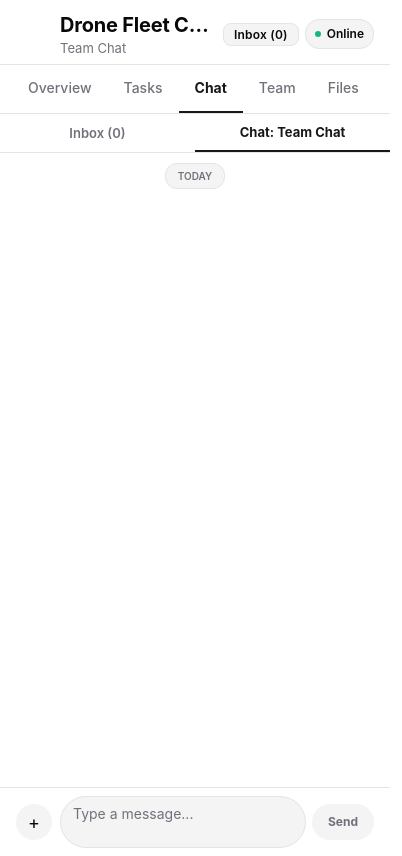
Test case: Phase 4 — Team Chat › switches to direct message with a teammate and sends DM
Note: In mobile view (default jest dimensions), press Switch Chat button to open modal
Click the button with aria-label "Switch Chat" at (261, 34), box [223, 22, 299, 46]
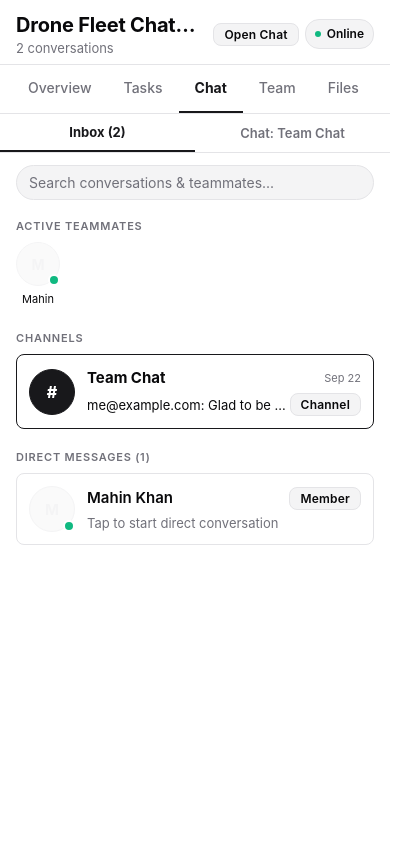
Result: the text "Mahin Khan" is shown
Note: Click on Mahin Khan in the DM list
Click the text "Mahin Khan" at (130, 498), box [87, 487, 173, 509]
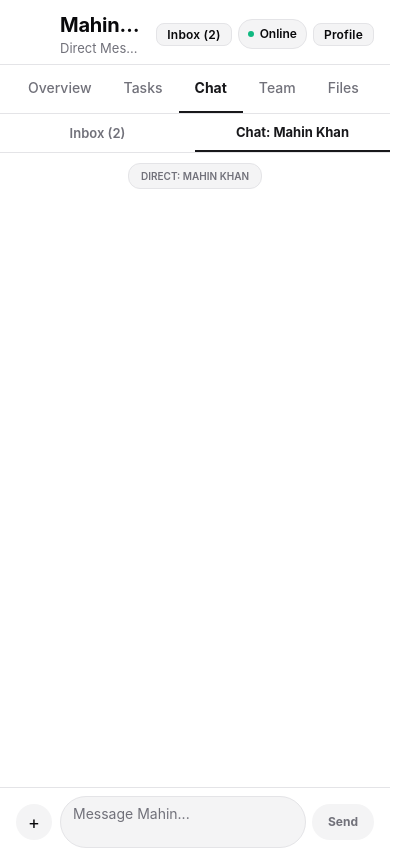
Result: the text "Direct Message" is shown at [60, 40, 142, 56]
Type "Private direct message to Mahin" into the text box with placeholder "Message Mahin..." at (183, 822), box [60, 796, 306, 848]
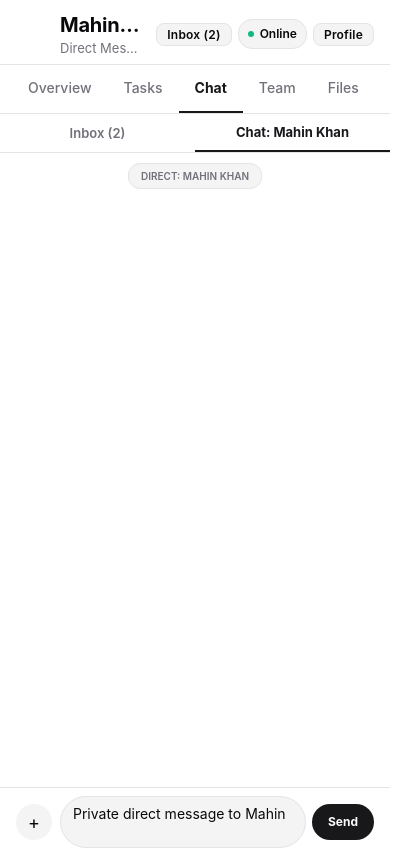
Click the button "Send" at (343, 822), box [312, 804, 374, 840]
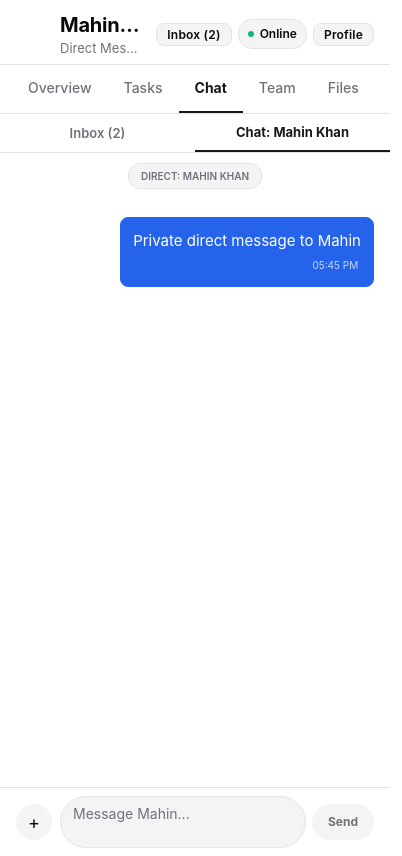
Result: the text "Private direct message to Mahin" is shown at [133, 230, 361, 252]
